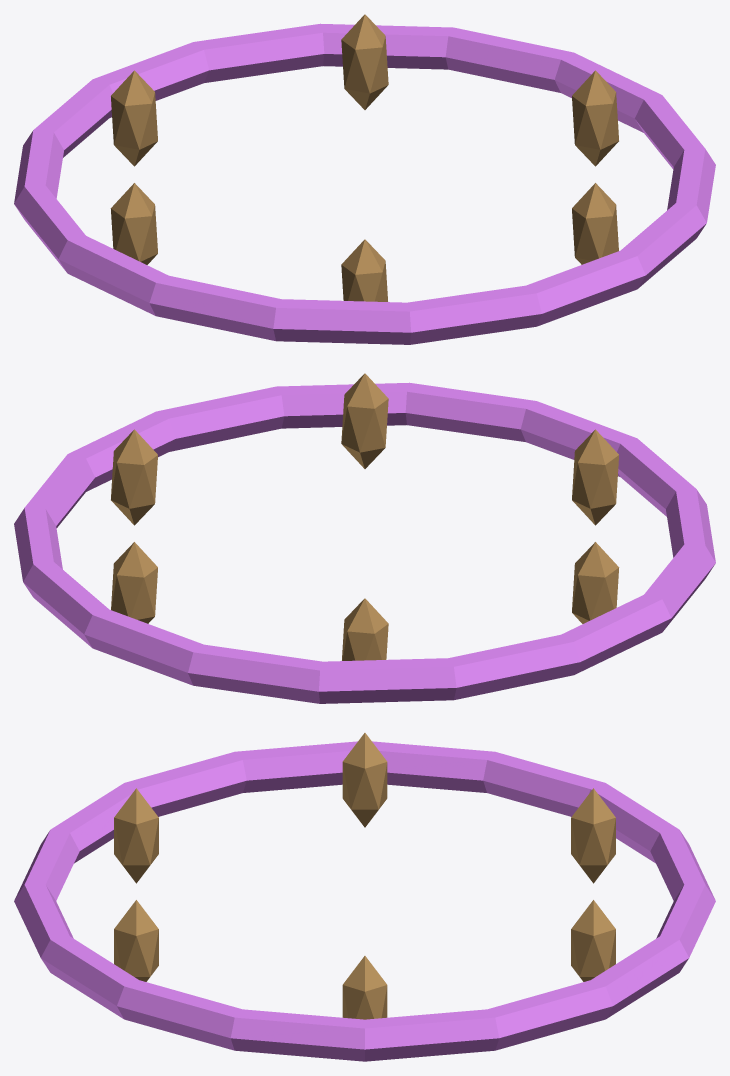
The model's file is SH10_L09_DeathSigil.fbx.
3 views of the same model, one above another, from view 1: azimuth 30°, elevation 25°; view 2: azimuth 150°, elevation 25°; view 3: azimuth 270°, elevation 25° (orthographic).
Parts seen in each view (by area): view 1: SH10_L09_DeathSigil; view 2: SH10_L09_DeathSigil; view 3: SH10_L09_DeathSigil.
Boxes of the visible parts, <box> form: SH10_L09_DeathSigil: <box>14,14,715,344</box>; SH10_L09_DeathSigil: <box>14,373,715,703</box>; SH10_L09_DeathSigil: <box>14,733,715,1061</box>.
Size of the model in its own units: 266 by 40 by 266.
